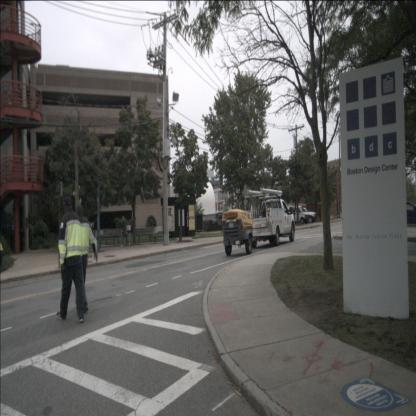human-pedestrian-adult: (57, 196, 86, 324), (71, 203, 99, 314), (120, 216, 131, 248)
vehicle-car: (388, 200, 416, 226), (287, 206, 310, 224), (211, 212, 233, 230), (294, 206, 316, 223)
vehicle-truck: (246, 188, 295, 248)
